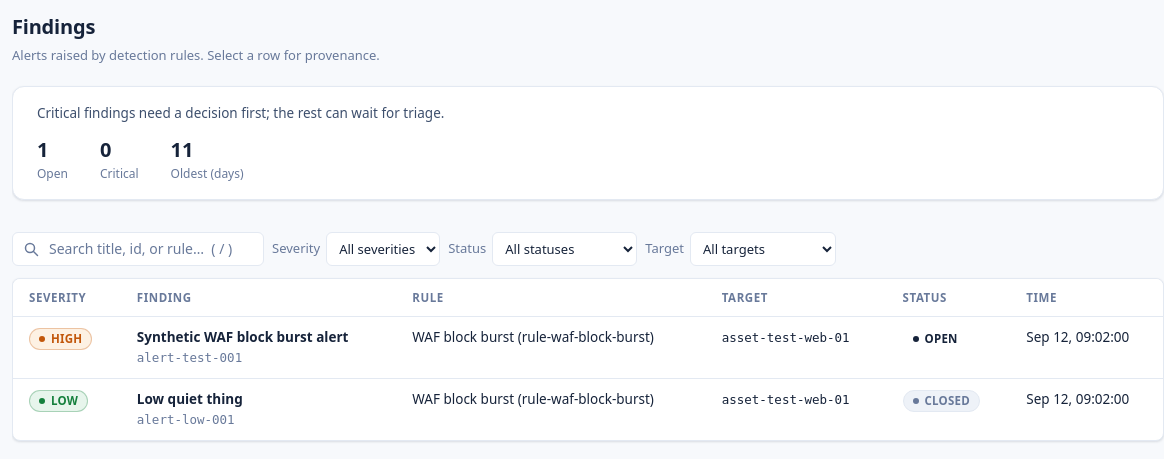
Test: Findings › searches and filters by severity
Expected: the text "Low quiet thing" is shown, left=137, top=390, right=243, bottom=408
Note: Search narrows to one row.
Type "quiet" into the field named "Search findings". click: x=150, y=249
box: left=47, top=237, right=253, bottom=260
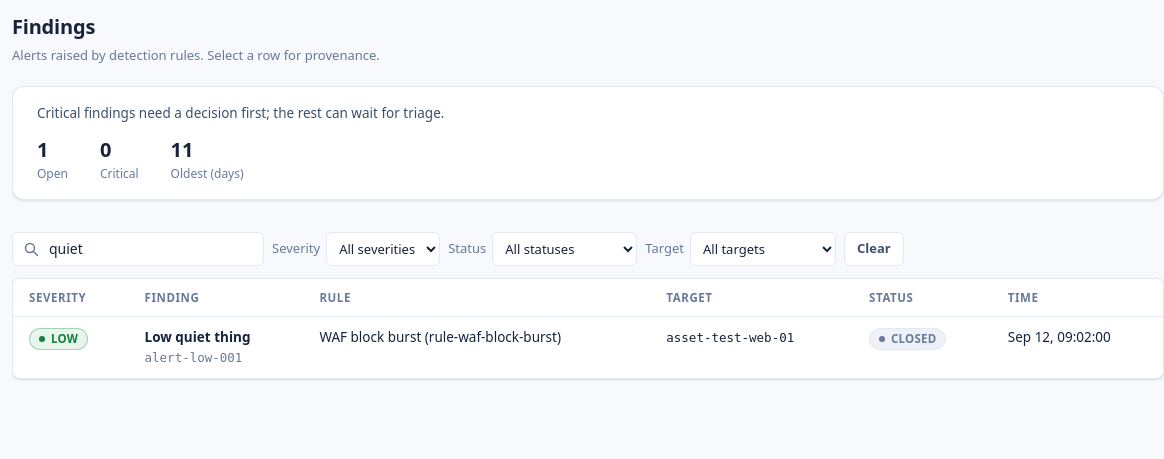
Expected: the text "Low quiet thing" is shown, left=144, top=328, right=250, bottom=346
Expected: the text "Synthetic WAF block burst alert" is gone
Clear the field named "Search findings". click: x=150, y=249
box: left=47, top=237, right=253, bottom=260
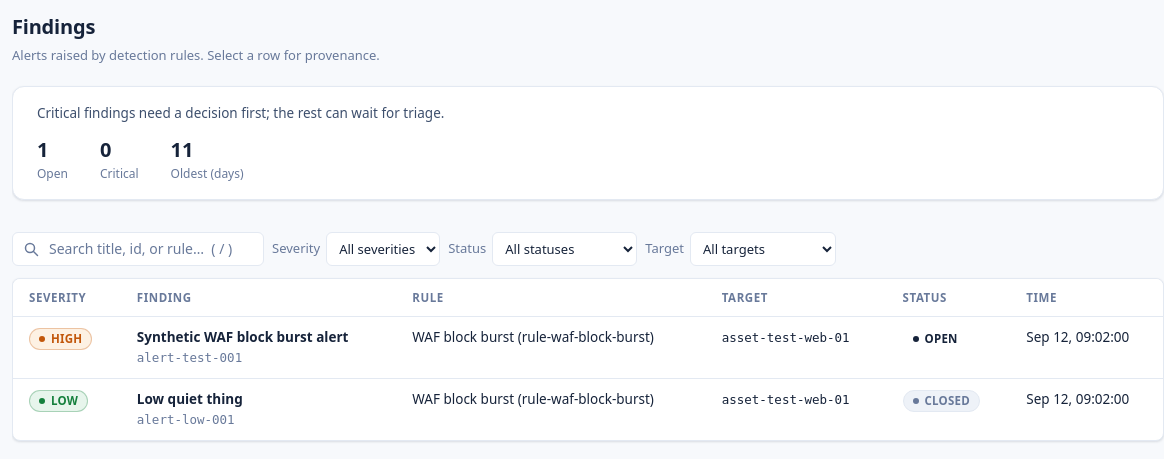
Select "HIGH" in the dropdown labelled "Severity". click: x=383, y=249
box: left=326, top=232, right=440, bottom=266
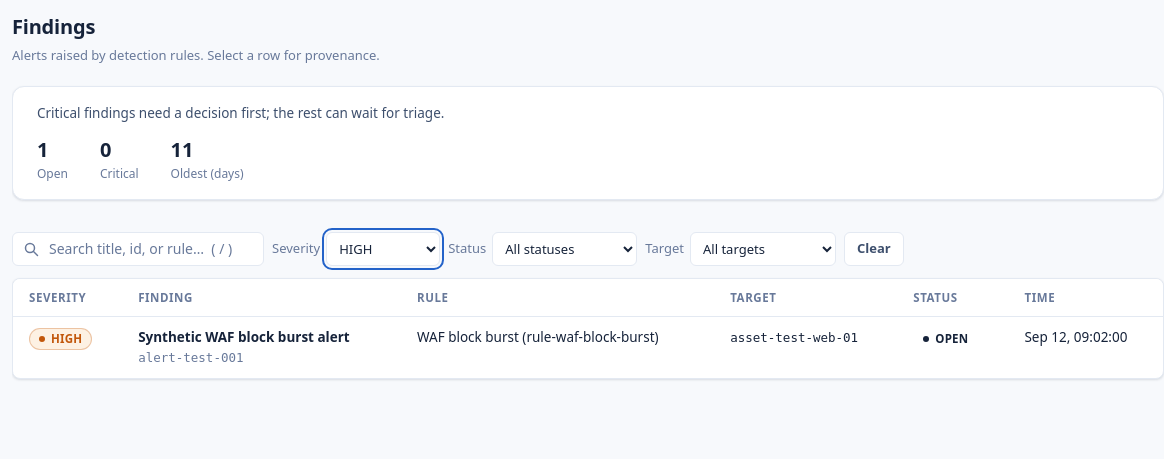
Expected: the text "Low quiet thing" is gone
